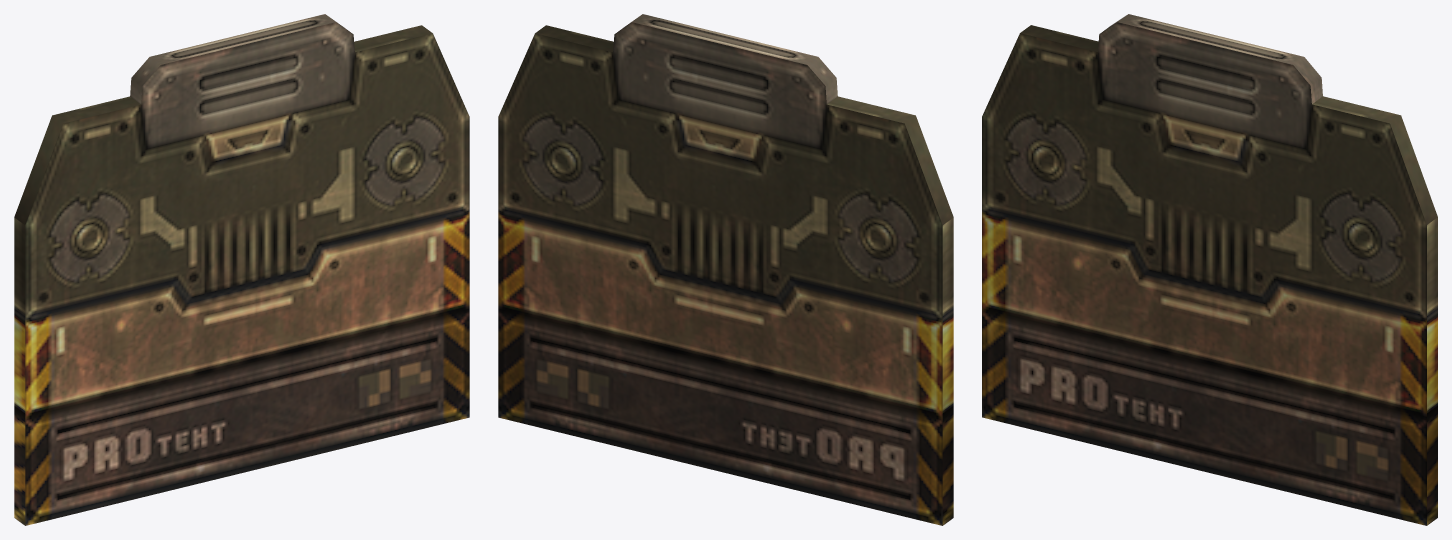
The model's file is mpr_cover_rail_half.FBX.
The picture shows the model from 3 angles, left to right: view 1: azimuth 30°, elevation 25°; view 2: azimuth 150°, elevation 25°; view 3: azimuth 330°, elevation 25°; orthographic projection.
Visible parts, largest first — view 1: mpr_cover_rail_half; view 2: mpr_cover_rail_half; view 3: mpr_cover_rail_half.
Part boxes in pixels (x1=…): mpr_cover_rail_half: x1=14, y1=14, x2=469, y2=525; mpr_cover_rail_half: x1=498, y1=14, x2=953, y2=525; mpr_cover_rail_half: x1=982, y1=14, x2=1437, y2=525.
Size of the model in its own units: 130 by 119 by 5.6.
1 material, 1 textured.
